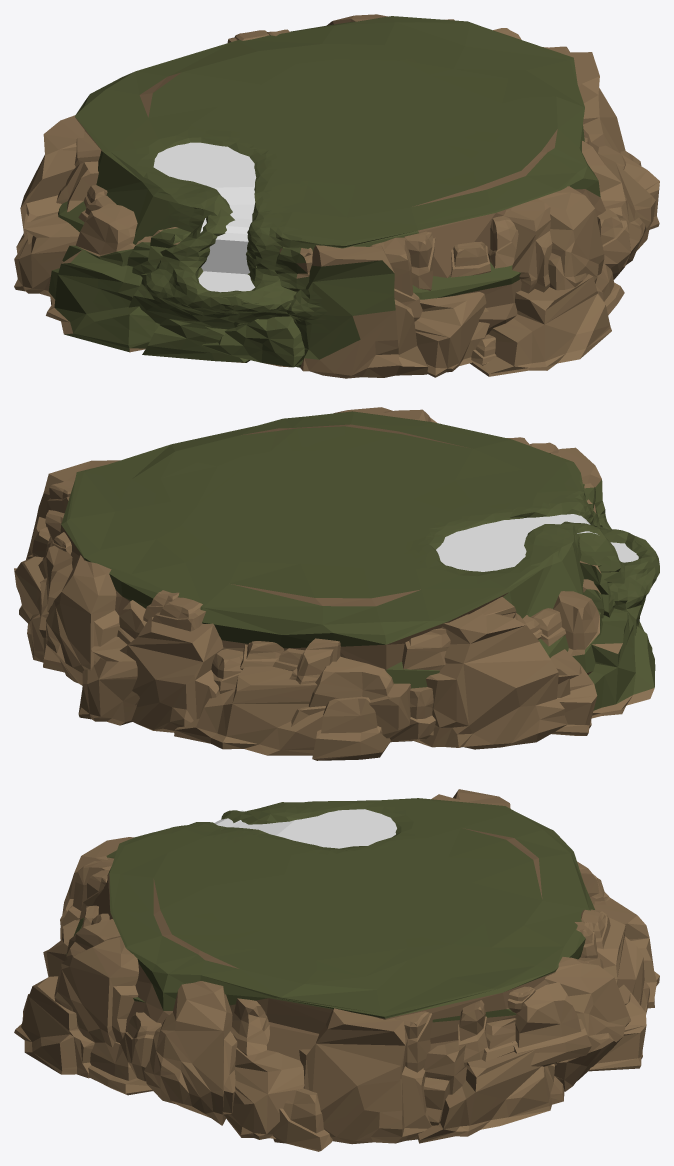
File: Village_Ground.fbx
The picture shows the model from 3 angles, top to bottom: view 1: azimuth 30°, elevation 25°; view 2: azimuth 150°, elevation 25°; view 3: azimuth 270°, elevation 25°; orthographic projection. The views are drawn at different scales.
Visible parts, largest first — view 1: Village_Ground; view 2: Village_Ground; view 3: Village_Ground.
Part boxes in pixels (x1,y1,x2,y2): Village_Ground: [14, 14, 659, 378]; Village_Ground: [14, 407, 659, 760]; Village_Ground: [14, 789, 659, 1151].
Bounding box in the file's own units: 6531 × 1406 × 6372.
